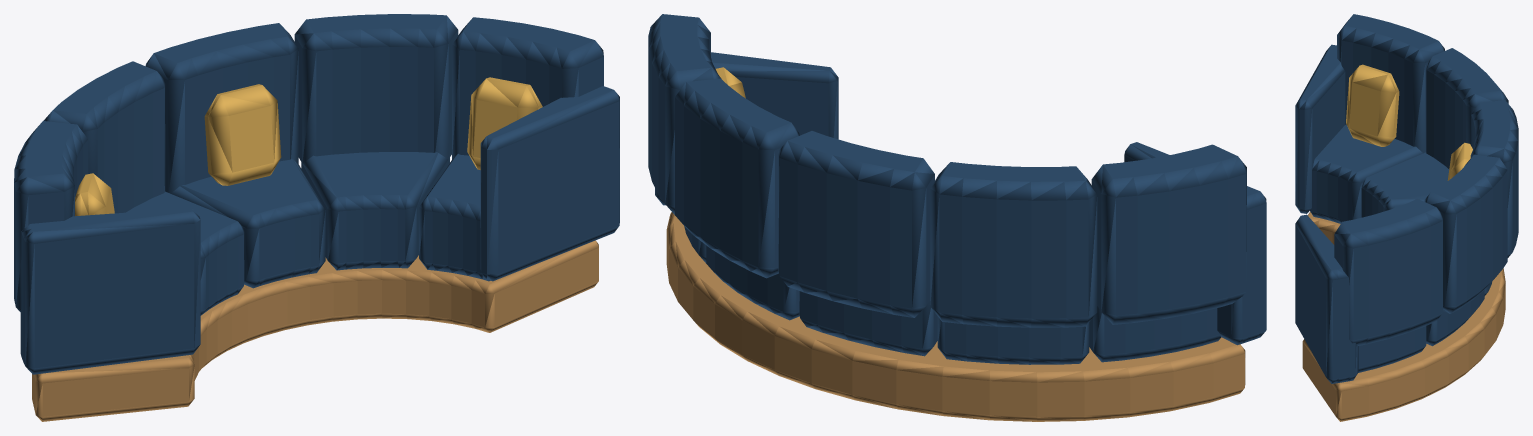
File: discussion-sofa.fbx
3 renders of one model, left to right at view 1: azimuth 30°, elevation 25°; view 2: azimuth 150°, elevation 25°; view 3: azimuth 270°, elevation 25°, orthographic. The views are drawn at different scales.
Visible parts, largest first — view 1: discussion-sofa; view 2: discussion-sofa; view 3: discussion-sofa.
Boxes of the visible parts, left/top/right/bottom form: discussion-sofa: left=14, top=14, right=619, bottom=421; discussion-sofa: left=648, top=14, right=1266, bottom=421; discussion-sofa: left=1295, top=14, right=1518, bottom=421.
Size of the model in its own units: 220 by 85 by 90.
